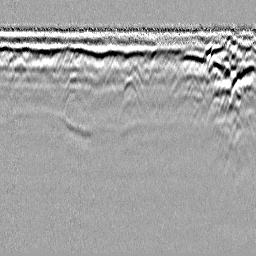cavity: (120, 74, 142, 105)
